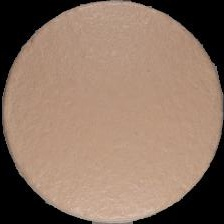55154-5040: (0, 0, 224, 224)
